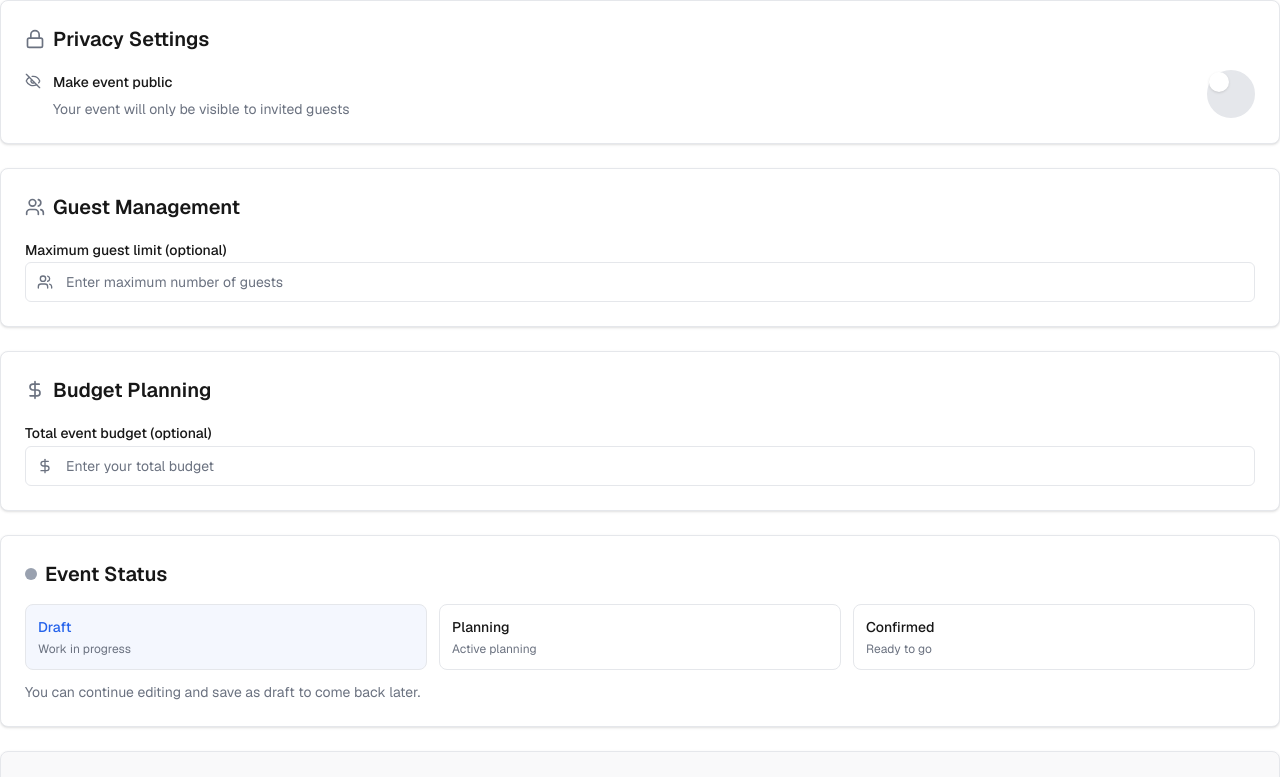
SettingsStep › Event Summary › updates summary in real-time when values change
This screenshot has width=1280, height=777.
Change privacy
Click the switch named "make event public" at (1231, 94), box [1207, 70, 1255, 118]
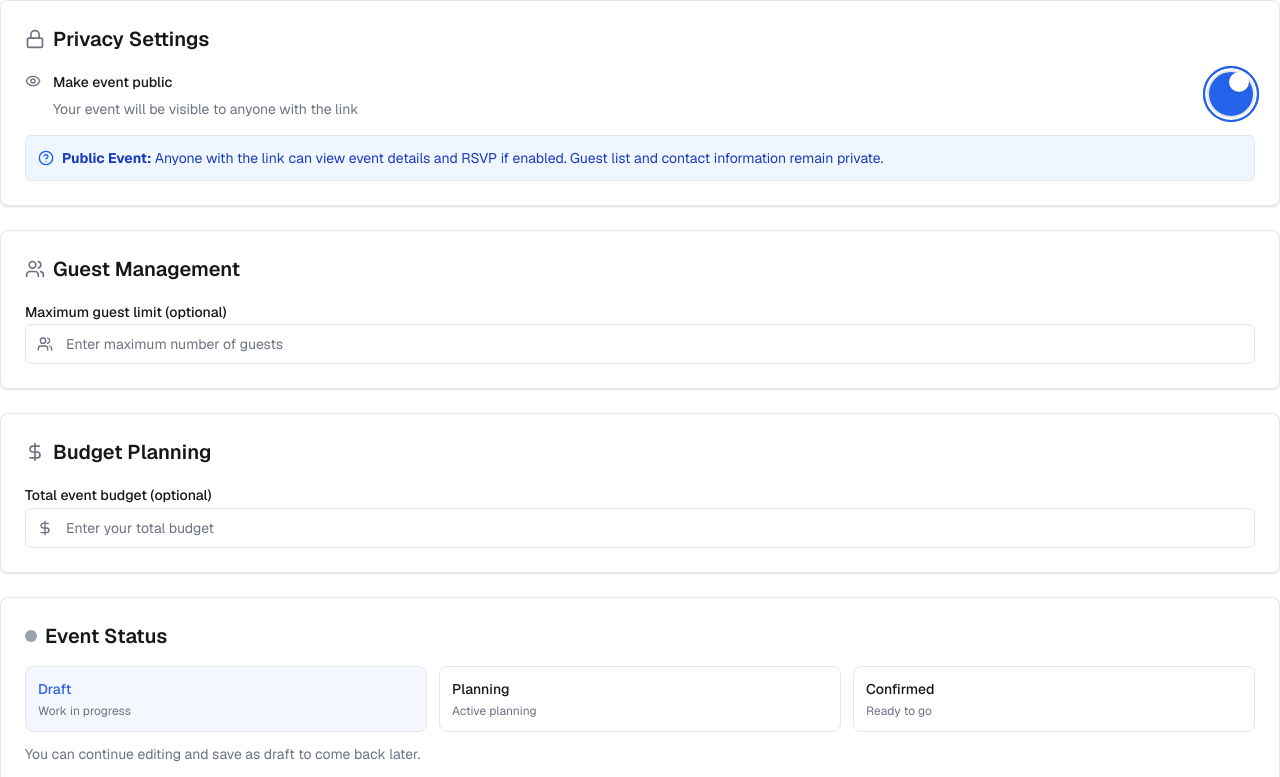
Change guest limit
Type "100" into the number field labelled "Maximum guest limit (optional)" at (640, 344), box [25, 324, 1255, 364]
(page scrolled)
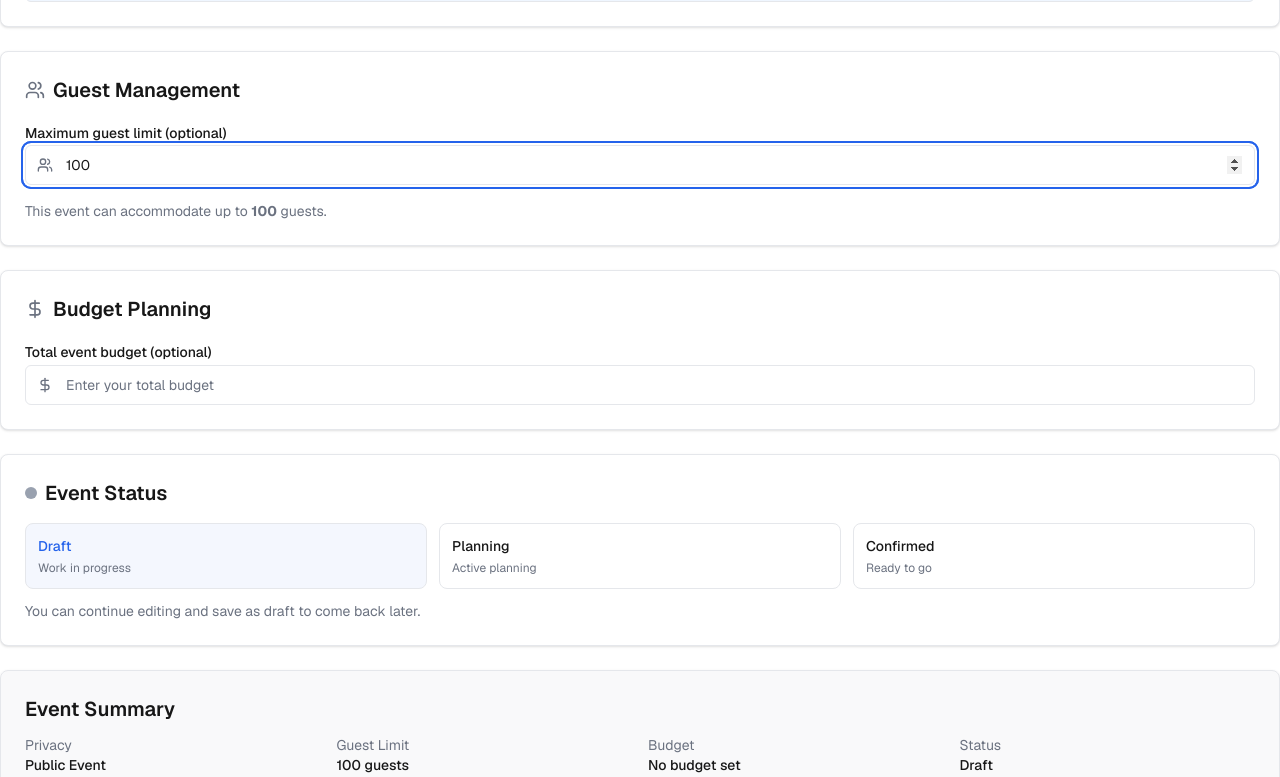
Expected: the text "100 guests" is shown, [336, 756, 409, 774]
